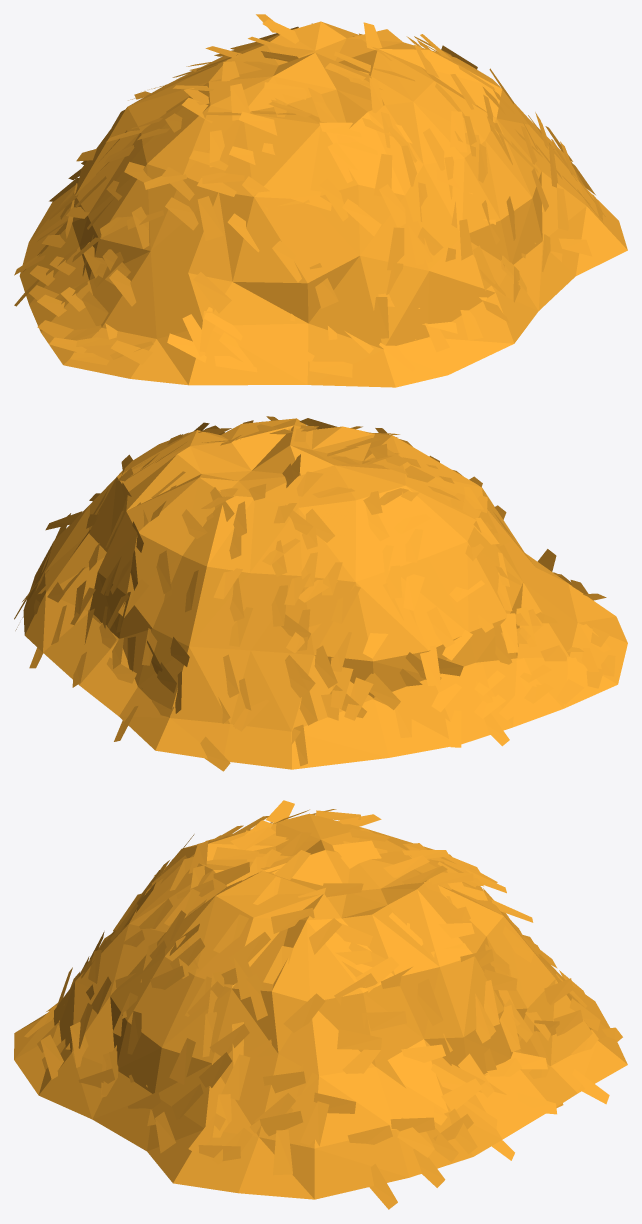
The model's file is SM_Grass_Pile_Large.fbx.
3 views of the same model, one above another, from view 1: azimuth 30°, elevation 25°; view 2: azimuth 150°, elevation 25°; view 3: azimuth 270°, elevation 25° (orthographic). The views are drawn at different scales.
Visible parts, largest first — view 1: grass-pile-large; view 2: grass-pile-large; view 3: grass-pile-large.
Boxes of the visible parts, box(x1,y1,x2,y2) form: grass-pile-large: box(14, 14, 627, 387); grass-pile-large: box(14, 416, 627, 771); grass-pile-large: box(14, 800, 627, 1209).
Bounding box in the file's own units: 3.22 × 1.22 × 2.91.
